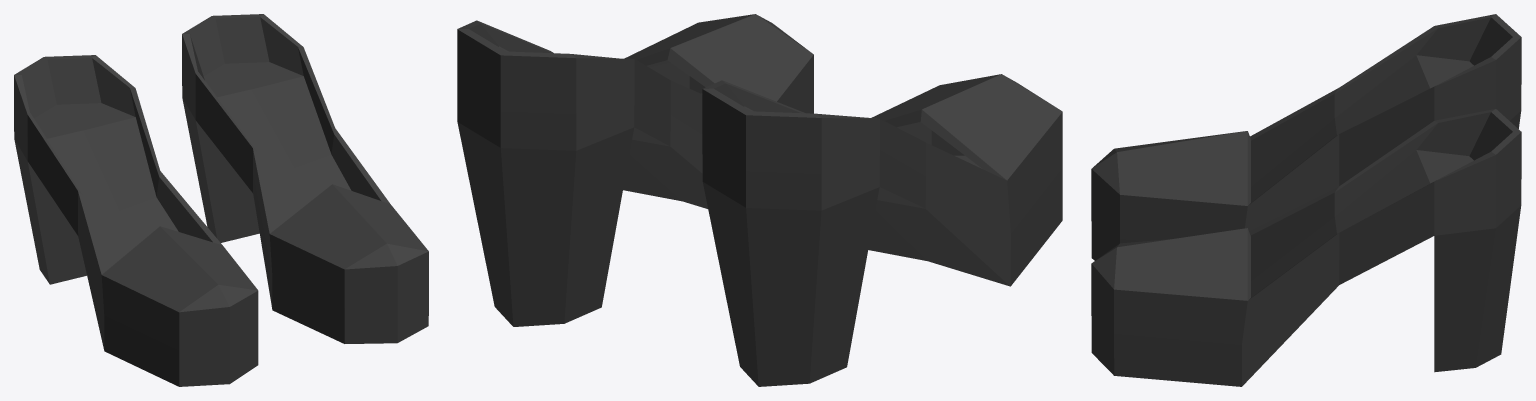
File: Heeled_shoes_1.fbx
3 renders of one model, left to right at view 1: azimuth 30°, elevation 25°; view 2: azimuth 150°, elevation 25°; view 3: azimuth 270°, elevation 25°, orthographic. The views are drawn at different scales.
Parts seen in each view (by area): view 1: Heeled_shoes_1; view 2: Heeled_shoes_1; view 3: Heeled_shoes_1.
Boxes of the visible parts, x1,y1,x2,y2 form: Heeled_shoes_1: [14, 14, 428, 386]; Heeled_shoes_1: [457, 14, 1062, 386]; Heeled_shoes_1: [1091, 14, 1521, 386].
Size of the model in its own units: 33.26 by 37.05 by 21.17.
